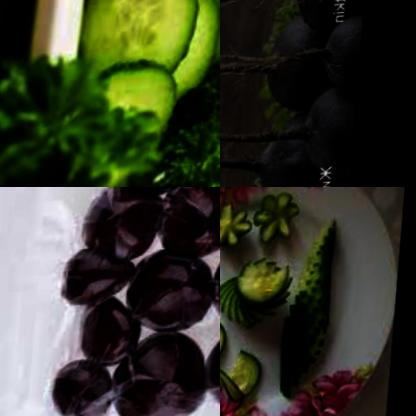beet: (46, 187, 220, 416)
cucumber: (73, 0, 220, 143), (268, 215, 350, 403), (220, 248, 299, 340), (220, 187, 307, 266), (220, 352, 273, 416), (220, 322, 242, 382)
redka: (263, 16, 338, 123), (255, 111, 351, 187), (301, 87, 359, 185), (279, 0, 368, 41), (323, 17, 364, 92)
